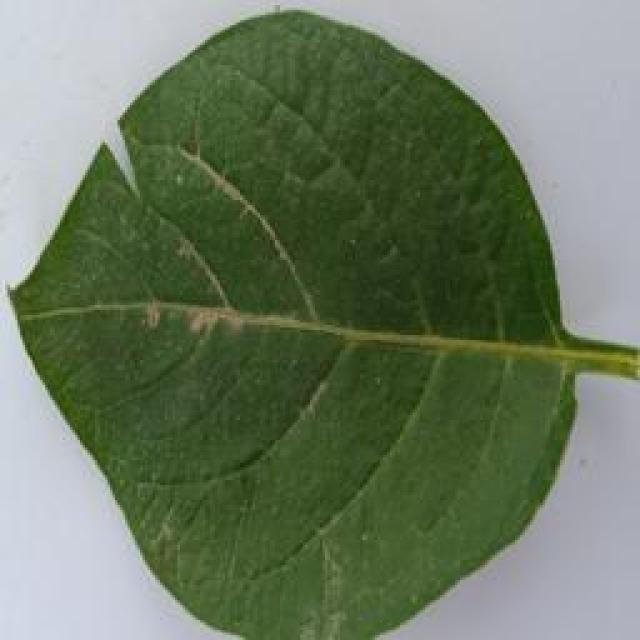Potato_Healthy: (5, 6, 615, 632)
